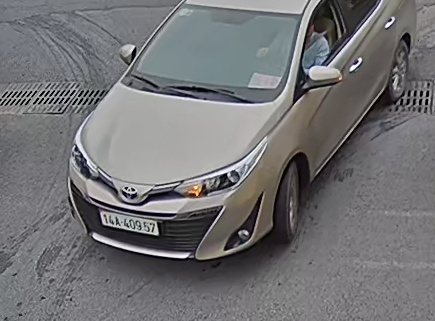vehicle plate: (96, 204, 164, 235)
